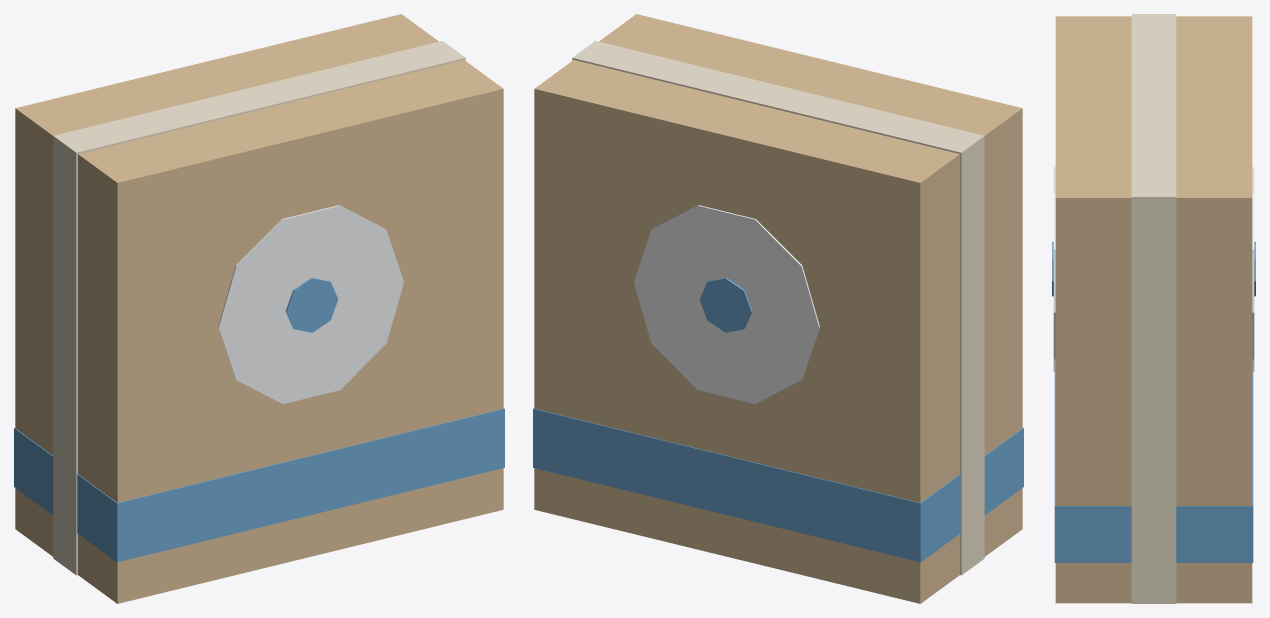
Rendered from ventilador_coluna_caixa.glb.
The picture shows the model from 3 angles, left to right: view 1: azimuth 30°, elevation 25°; view 2: azimuth 150°, elevation 25°; view 3: azimuth 270°, elevation 25°; orthographic projection. The views are drawn at different scales.
Visible parts, largest first — view 1: corpo; view 2: corpo; view 3: corpo.
Boxes of the visible parts, <box> form: corpo: <box>14,14,504,603</box>; corpo: <box>533,14,1023,603</box>; corpo: <box>1052,14,1255,603</box>.
Size of the model in its own units: 0.484 by 0.502 by 0.228.
